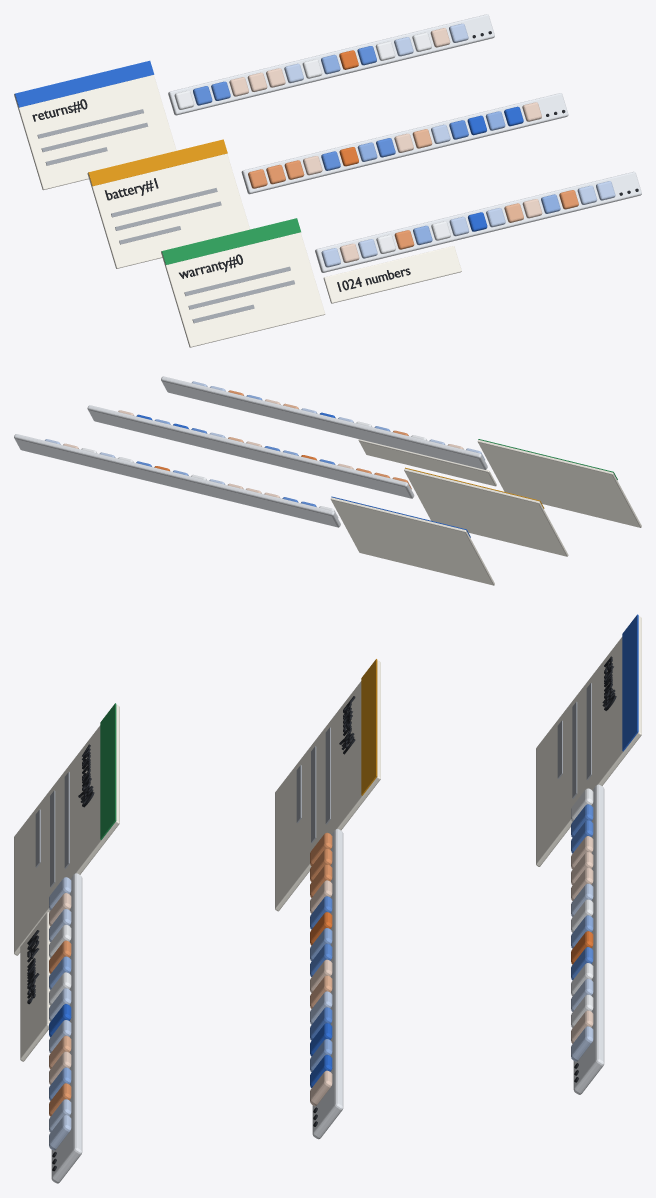
The model's file is embedder.glb.
3 views of the same model, one above another, from view 1: azimuth 30°, elevation 25°; view 2: azimuth 150°, elevation 25°; view 3: azimuth 270°, elevation 25° (orthographic). The views are drawn at different scales.
Parts seen in each view (by area): view 1: warranty#0_stock, returns#0_stock, battery#1_stock, vec_returns#0, vec_battery#1, vec_warranty#0, vec_warranty#0_bar, vec_battery#1_bar, vec_returns#0_bar, vec_warranty#0_tag, battery#1_stripe, returns#0_stripe (+4 smaller); view 2: returns#0_stock, battery#1_stock, warranty#0_stock, vec_warranty#0_bar, vec_battery#1_bar, vec_returns#0_bar, vec_warranty#0_tag, vec_battery#1, vec_returns#0, vec_warranty#0; view 3: returns#0_stock, battery#1_stock, warranty#0_stock, vec_returns#0, vec_battery#1, vec_warranty#0, vec_warranty#0_bar, vec_battery#1_bar, vec_returns#0_bar, vec_warranty#0_tag, returns#0_stripe, battery#1_stripe (+4 smaller).
Boxes of the visible parts, x1,y1,x2,y2 form: warranty#0_stock: [161, 232, 325, 347]; returns#0_stock: [14, 75, 176, 190]; battery#1_stock: [87, 153, 249, 268]; vec_returns#0: [174, 23, 468, 109]; vec_battery#1: [248, 102, 541, 188]; vec_warranty#0: [321, 181, 615, 267]; vec_warranty#0_bar: [315, 171, 641, 272]; vec_battery#1_bar: [241, 93, 568, 194]; vec_returns#0_bar: [168, 14, 494, 115]; vec_warranty#0_tag: [323, 246, 461, 303]; battery#1_stripe: [88, 139, 227, 186]; returns#0_stripe: [15, 60, 154, 107]; returns#0_stock: [330, 497, 494, 585]; battery#1_stock: [404, 468, 568, 556]; warranty#0_stock: [477, 440, 641, 527]; vec_warranty#0_bar: [161, 376, 487, 469]; vec_battery#1_bar: [87, 405, 414, 498]; vec_returns#0_bar: [14, 434, 340, 527]; vec_warranty#0_tag: [358, 439, 496, 486]; vec_battery#1: [118, 410, 411, 489]; vec_returns#0: [45, 439, 338, 517]; vec_warranty#0: [192, 381, 484, 460]; returns#0_stock: [536, 616, 641, 866]; battery#1_stock: [275, 660, 380, 911]; warranty#0_stock: [14, 704, 119, 955]; vec_returns#0: [571, 788, 593, 1061]; vec_battery#1: [310, 832, 332, 1106]; vec_warranty#0: [49, 877, 71, 1150]; vec_warranty#0_bar: [51, 873, 82, 1183]; vec_battery#1_bar: [312, 829, 343, 1139]; vec_returns#0_bar: [573, 784, 604, 1094]; vec_warranty#0_tag: [20, 912, 50, 1061]; returns#0_stripe: [622, 614, 638, 751]; battery#1_stripe: [361, 659, 377, 795].
Size of the model in its own units: 0.582 by 0.152 by 0.3849.
